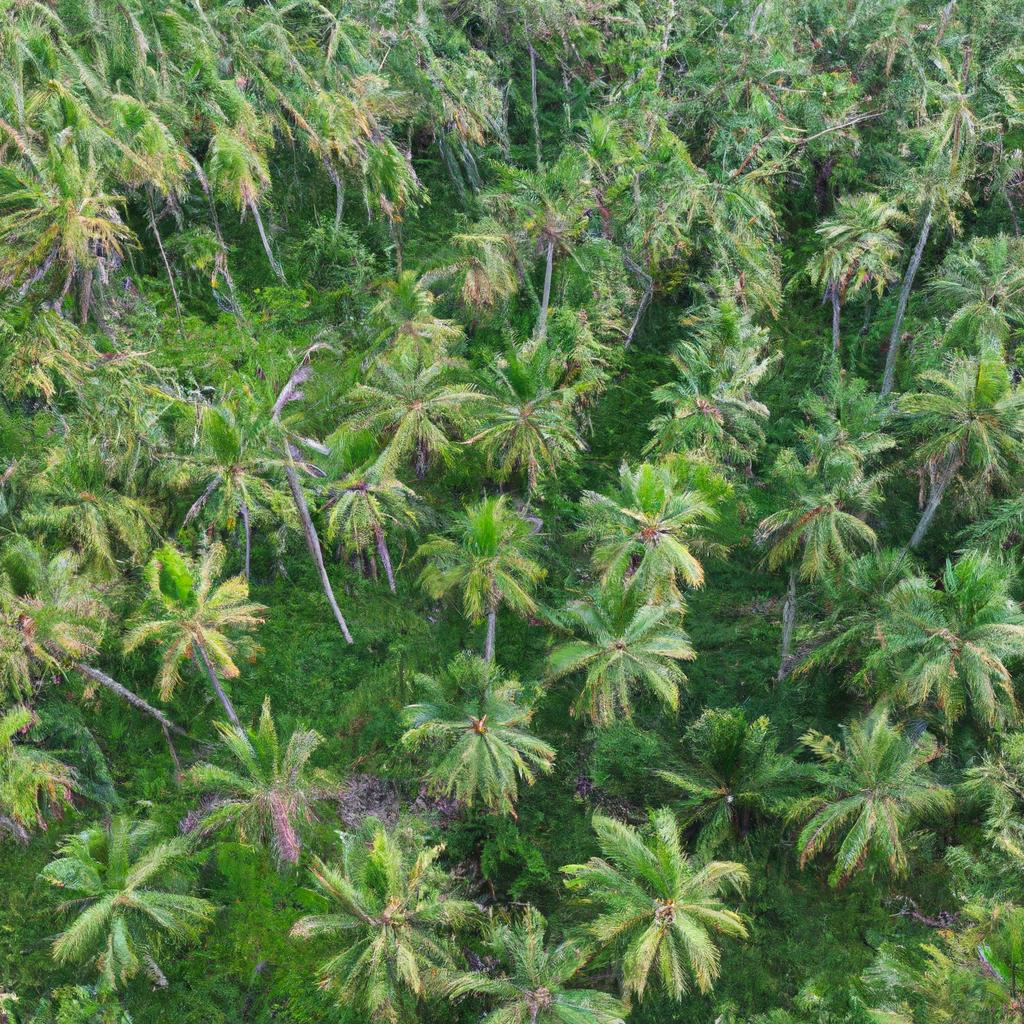coconut_tree: (578, 793, 767, 1007), (300, 813, 486, 1012), (42, 799, 221, 1001), (786, 696, 961, 885), (388, 642, 573, 805), (859, 552, 1023, 715), (123, 540, 292, 697), (418, 502, 586, 632), (550, 591, 697, 732), (581, 453, 710, 591), (359, 343, 505, 464)
